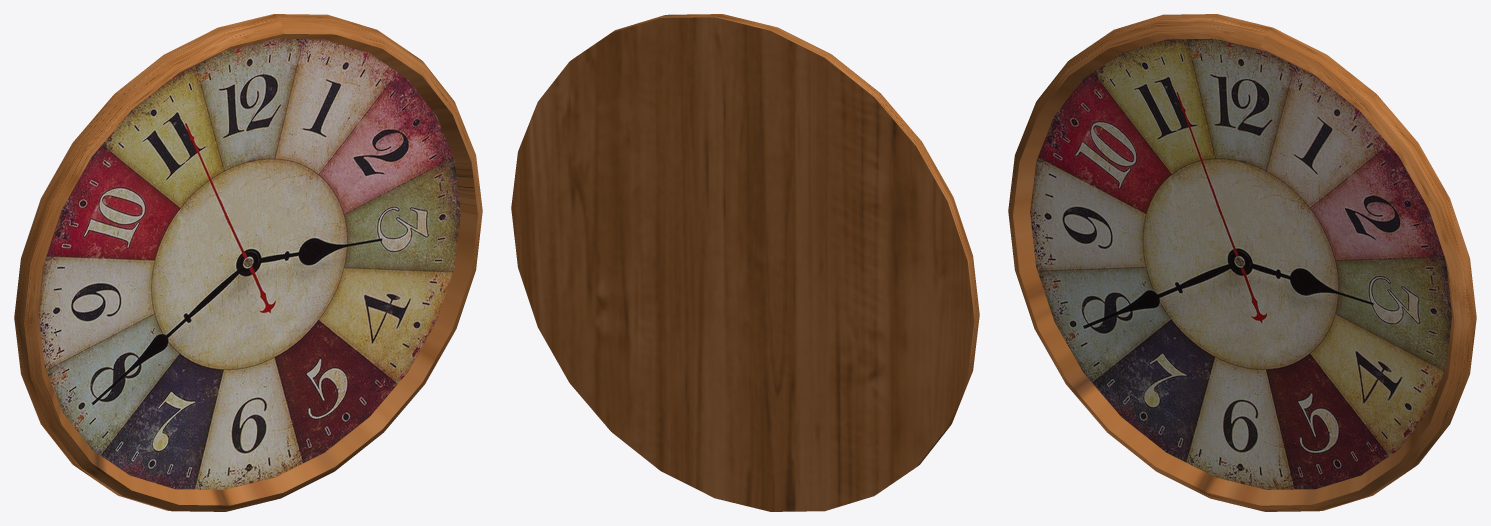
The model's file is Clock.fbx.
The picture shows the model from 3 angles, left to right: view 1: azimuth 30°, elevation 25°; view 2: azimuth 150°, elevation 25°; view 3: azimuth 330°, elevation 25°; orthographic projection.
Visible parts, largest first — view 1: clock; view 2: clock; view 3: clock.
Boxes of the visible parts, bbox=[...] form: clock: bbox=[14, 14, 482, 511]; clock: bbox=[511, 14, 979, 511]; clock: bbox=[1008, 14, 1476, 511].
Bounding box in the file's own units: 111 × 110 × 4.73.
1 material, 1 textured.
